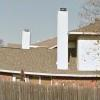Chimney: (50, 4, 78, 69)
